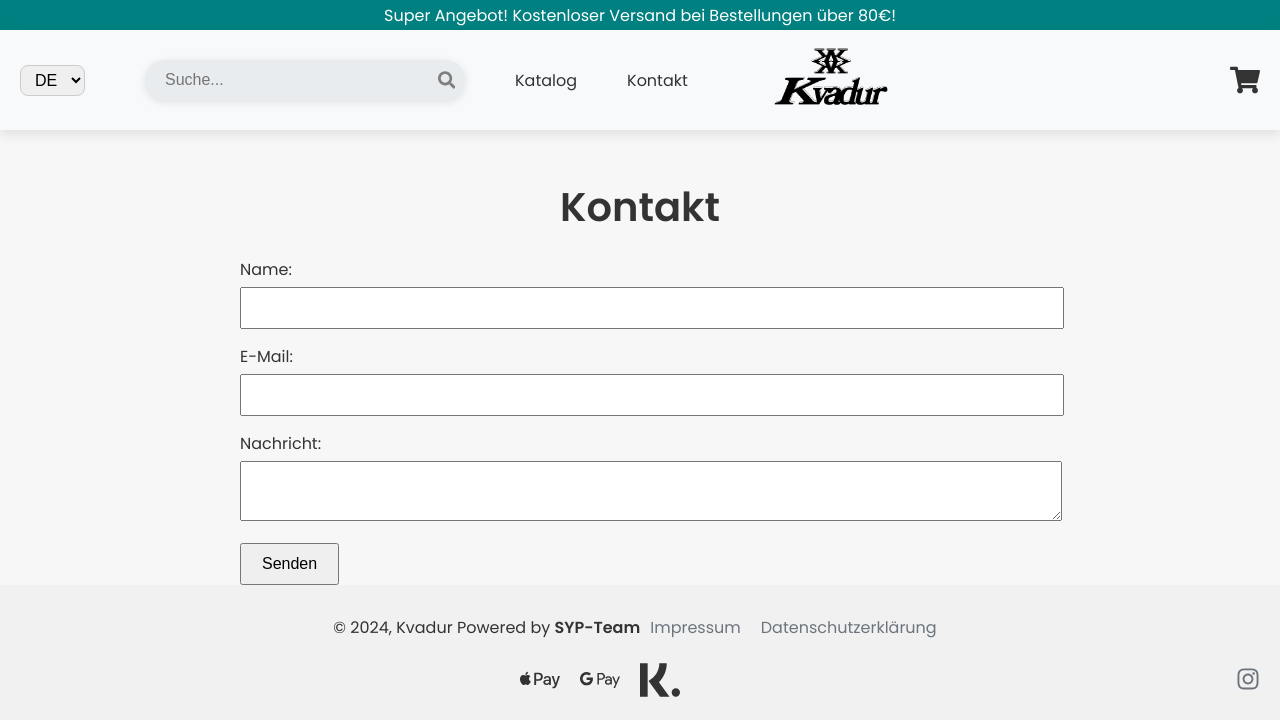
Test case: Ultra Komplexe Frontend-Tests für Kvadur › 8) Kontaktformular: Validierung (Fehler + Erfolg)
This screenshot has width=1280, height=720.
Submit the form, box [240,257,1040,585]
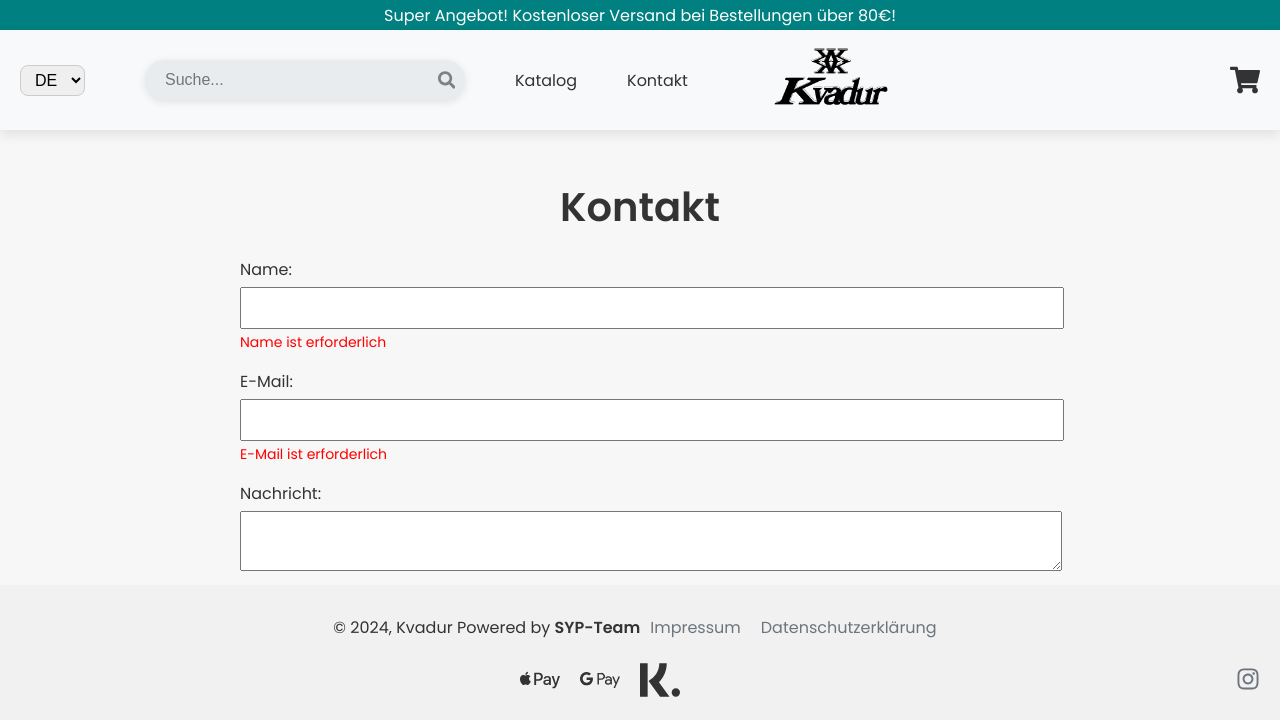
Expected: the number of elements with class "error-message" is at least 1
Type "Max Mustermann" into the field named "name" at [652, 308], box [240,287,1064,329]
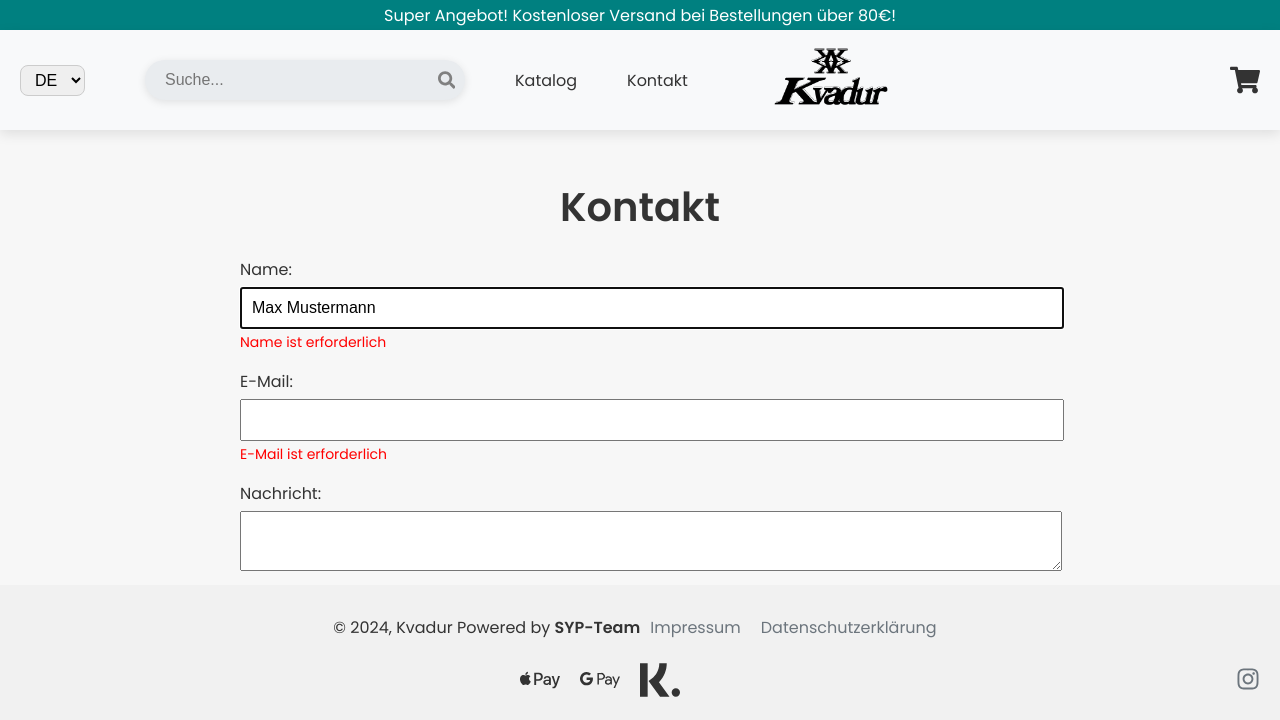
Type "max@mustermann.de" into the field named "email" at [652, 420], box [240,399,1064,441]
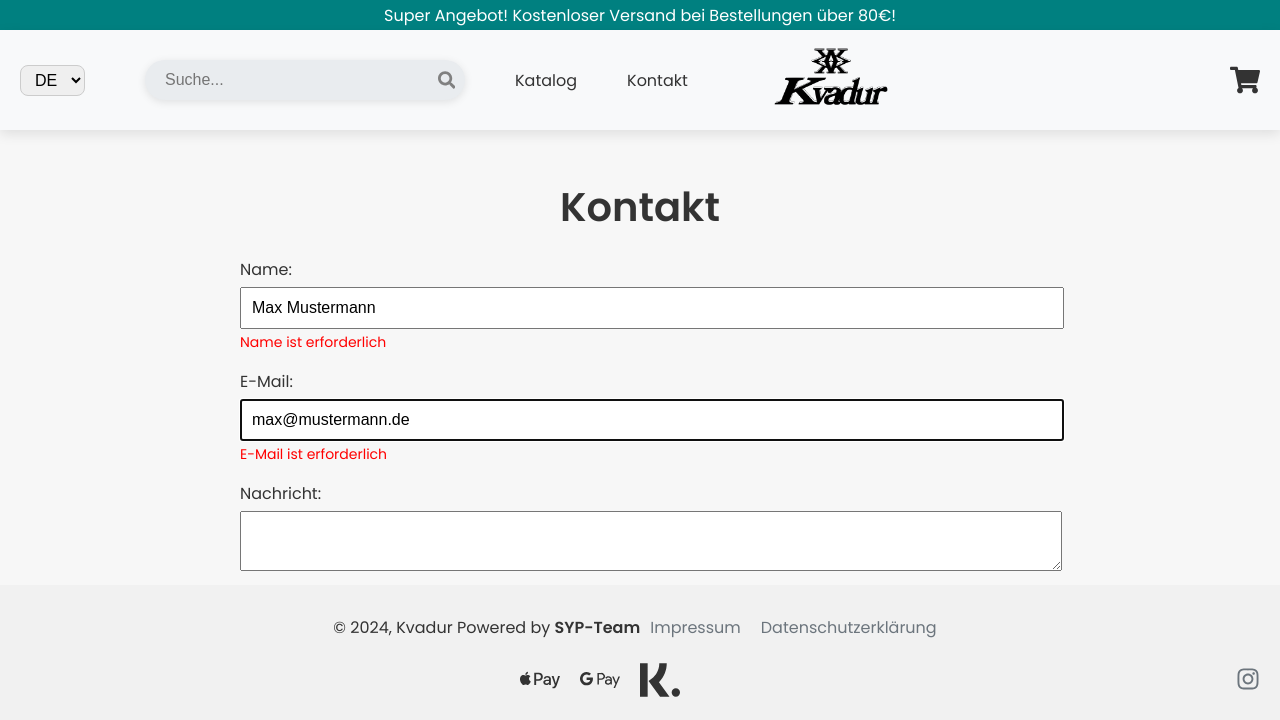
Type "Dies ist eine Testnachricht." into the text box named "message" at [651, 541], box [240,511,1062,571]
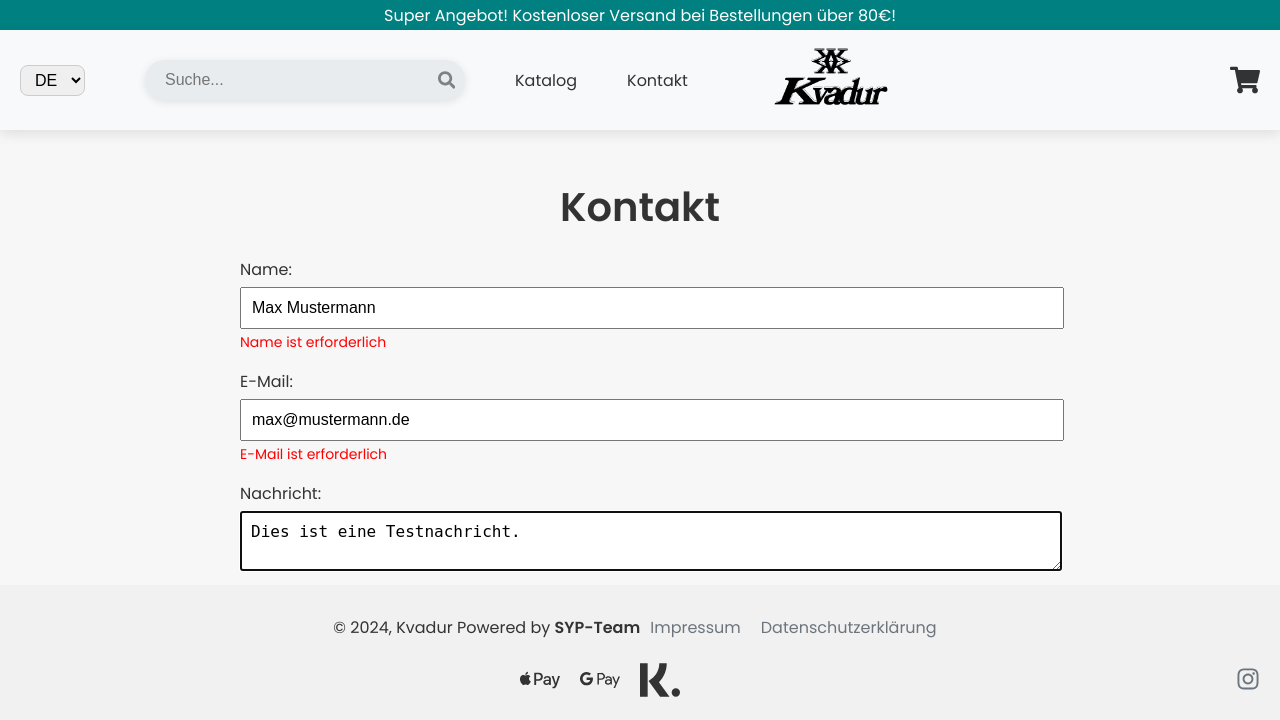
Submit the form, box [240,257,1040,660]
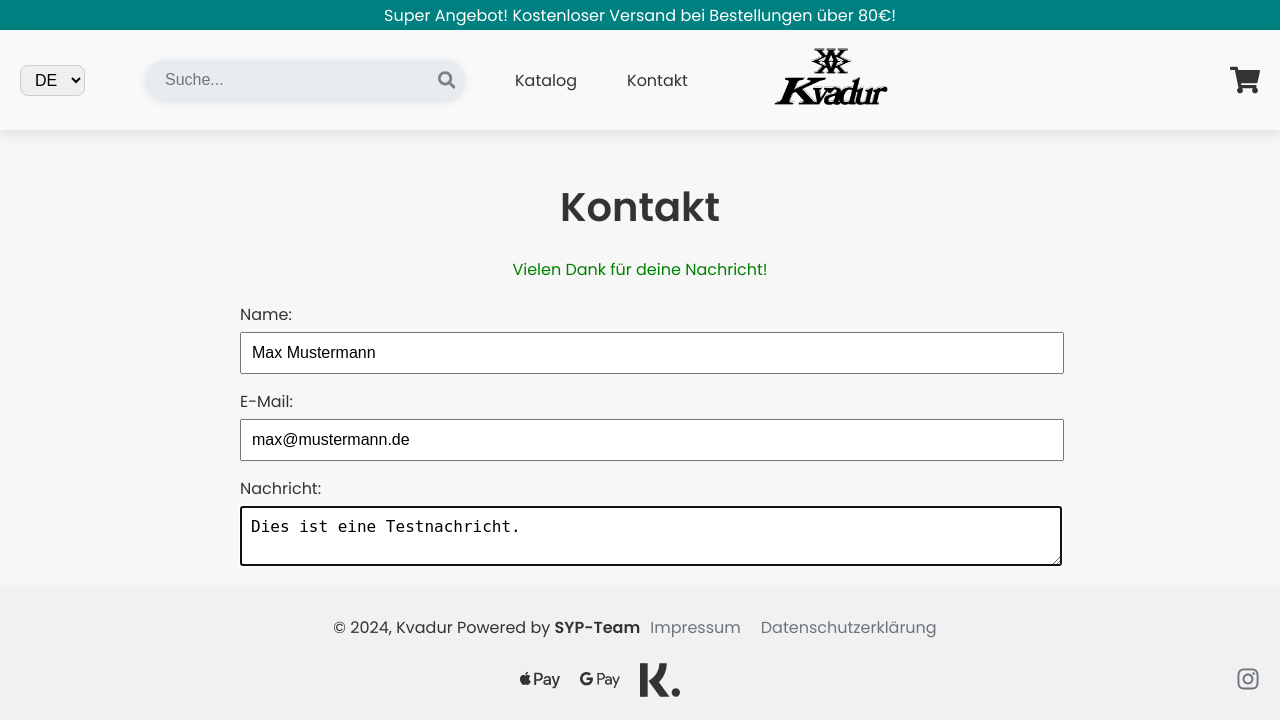
Expected: the text "Vielen Dank für deine Nachricht!" is shown, [512,258,768,281]
Expected: the text with class "success-message" shows "Vielen Dank", [512,258,767,281]
